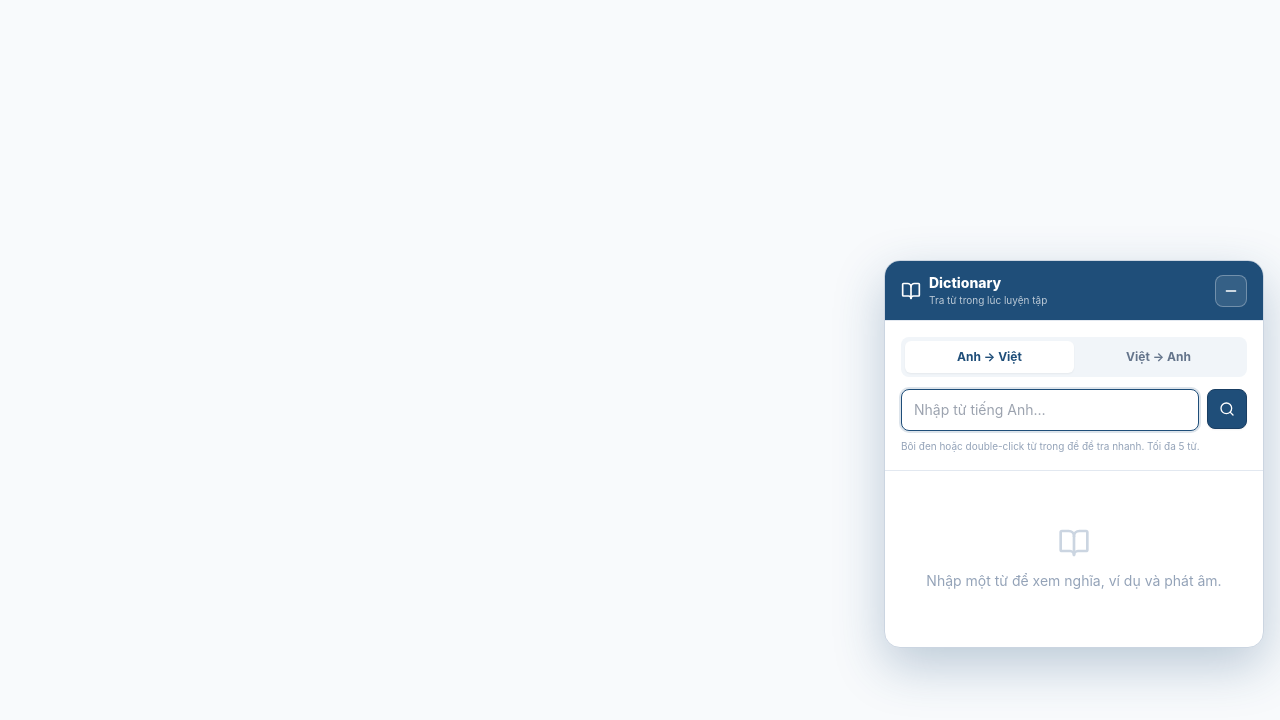
DictionaryPanel › looks up and renders bilingual meanings, examples and attribution
Type "example" into the field named "Từ cần tra" at (1050, 410), box [901,389,1199,431]
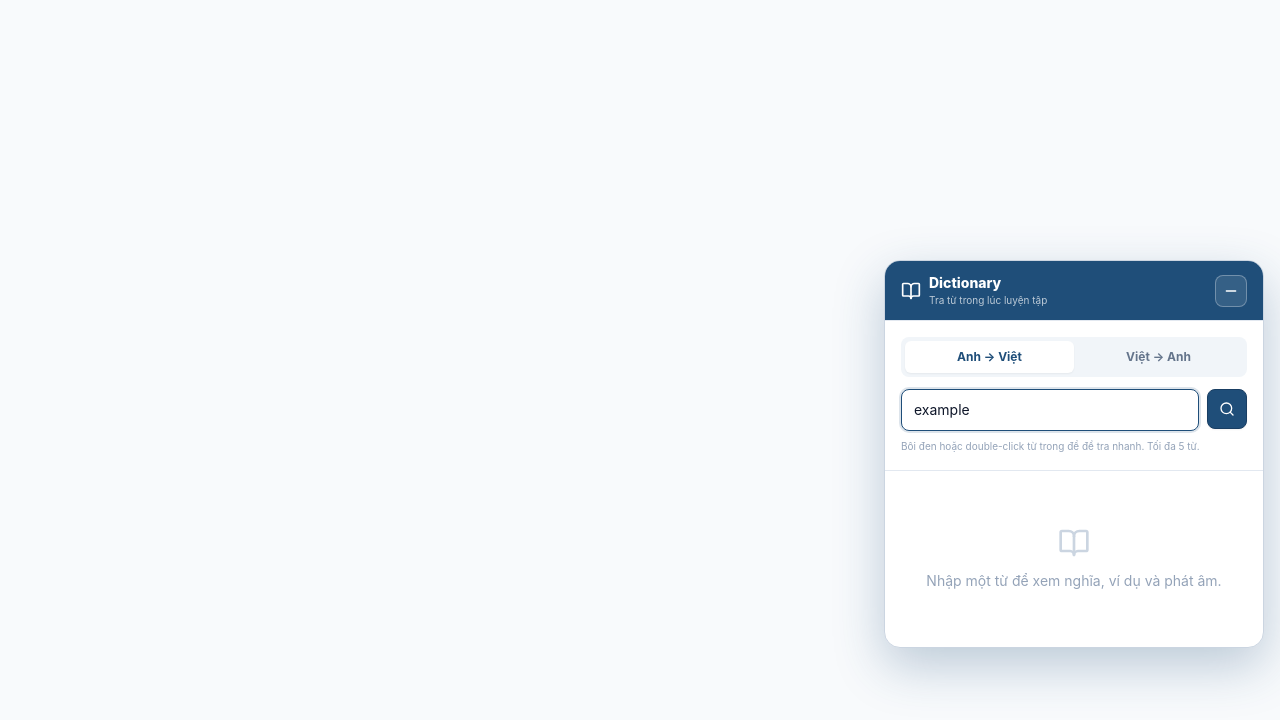
Click the button named "Tra từ" at (1227, 409), box [1207,389,1247,429]
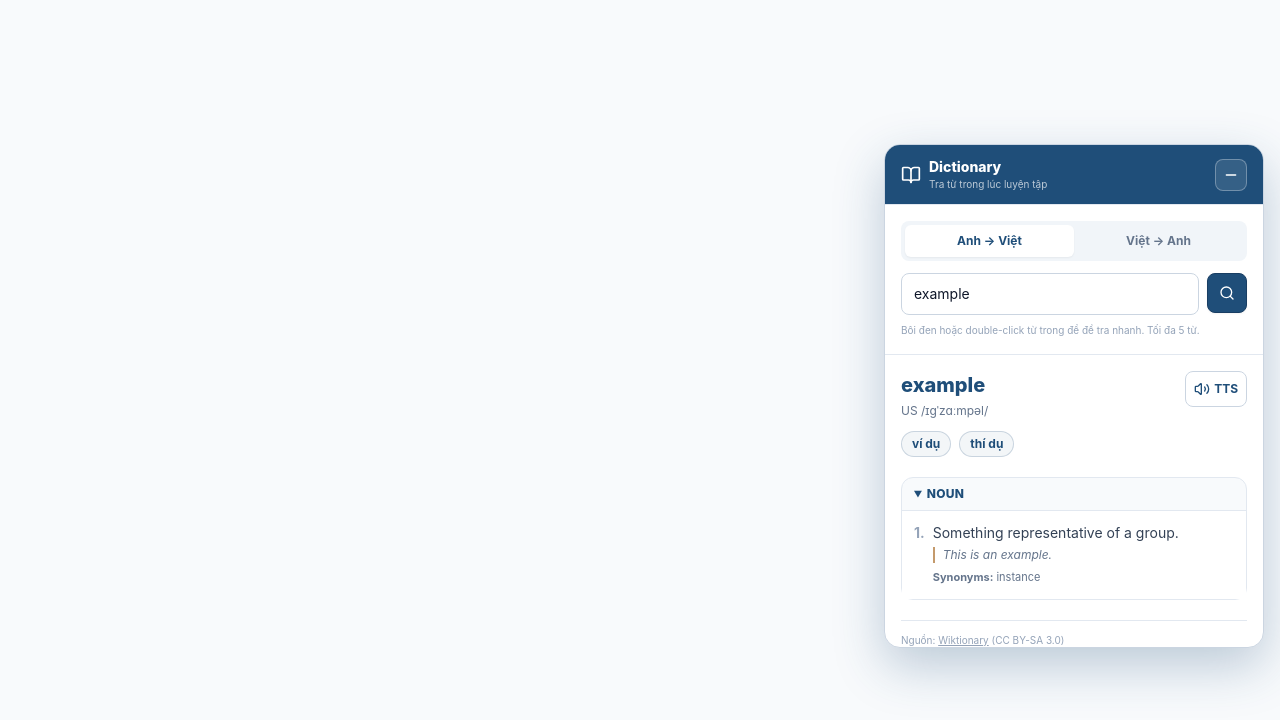
Expected: the text "Something representative of a group." is shown, [933,523,1179,543]
Expected: the text "This is an example." is shown, [933,547,1179,563]
Expected: the link "Wiktionary" is shown, [938,634,989,646]
